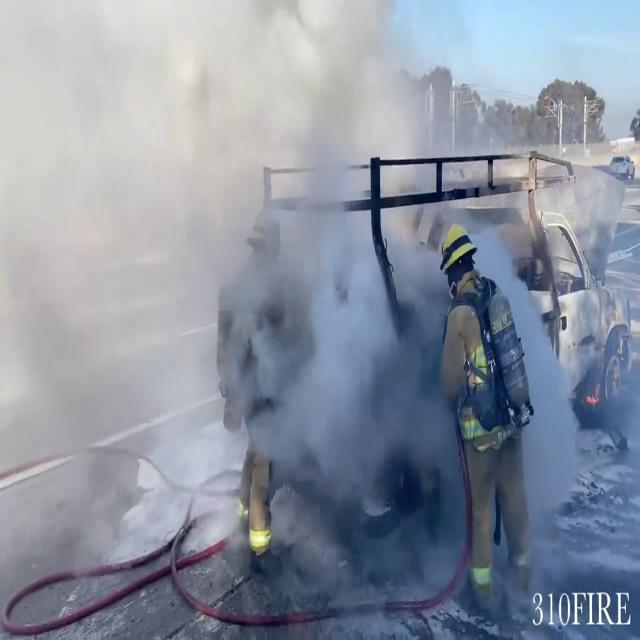Smoke: (1, 1, 520, 605)
